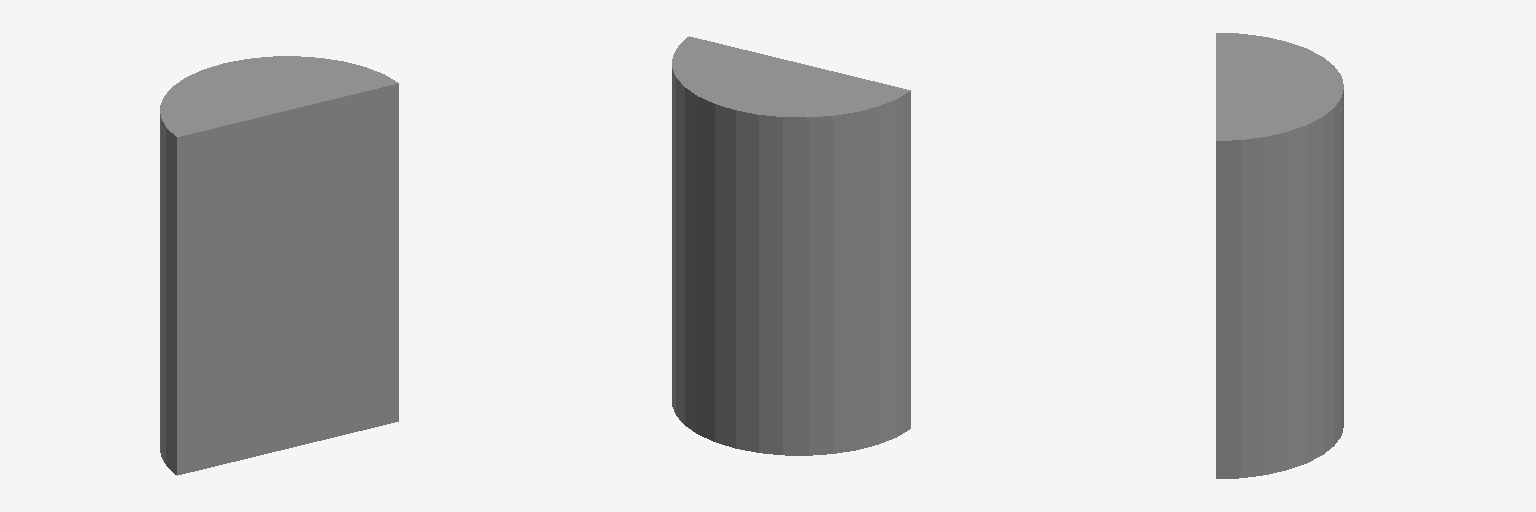
Rendered from marrow.obj.
3 views of the same model, side by side, from view 1: azimuth 30°, elevation 25°; view 2: azimuth 150°, elevation 25°; view 3: azimuth 270°, elevation 25° (orthographic).
Visible parts, largest first — view 1: Cylinder; view 2: Cylinder; view 3: Cylinder.
Part boxes in pixels (bbox=[...]): Cylinder: bbox=[160, 56, 398, 475]; Cylinder: bbox=[672, 36, 910, 455]; Cylinder: bbox=[1216, 33, 1343, 478].
Bounding box in the file's own units: 0.7789 × 1.13 × 0.3895.